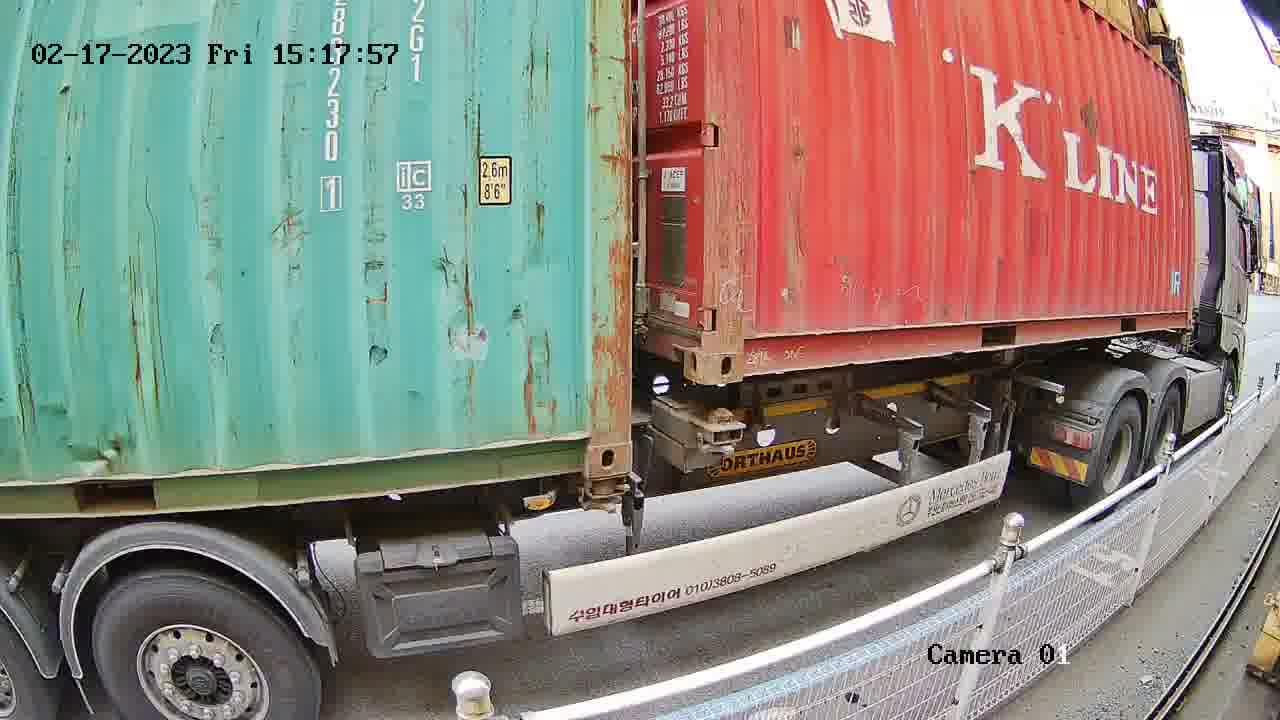Cone: (698, 407, 745, 462), (580, 478, 629, 515)
Hole_L: (702, 316, 773, 384)
Hole_R: (544, 406, 631, 476), (660, 309, 704, 384)
Tire: (90, 576, 314, 716), (1090, 399, 1143, 511), (1149, 388, 1183, 474)
